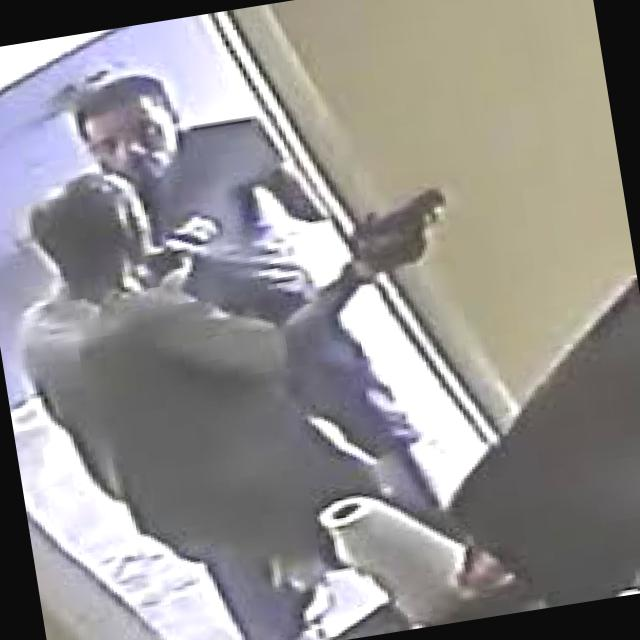handgun: (331, 182, 454, 288)
